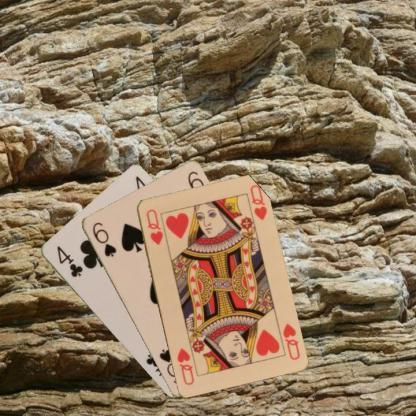4c: (53, 243, 84, 278)
6s: (90, 218, 118, 258)
Qh: (280, 320, 302, 362), (143, 206, 164, 246)
